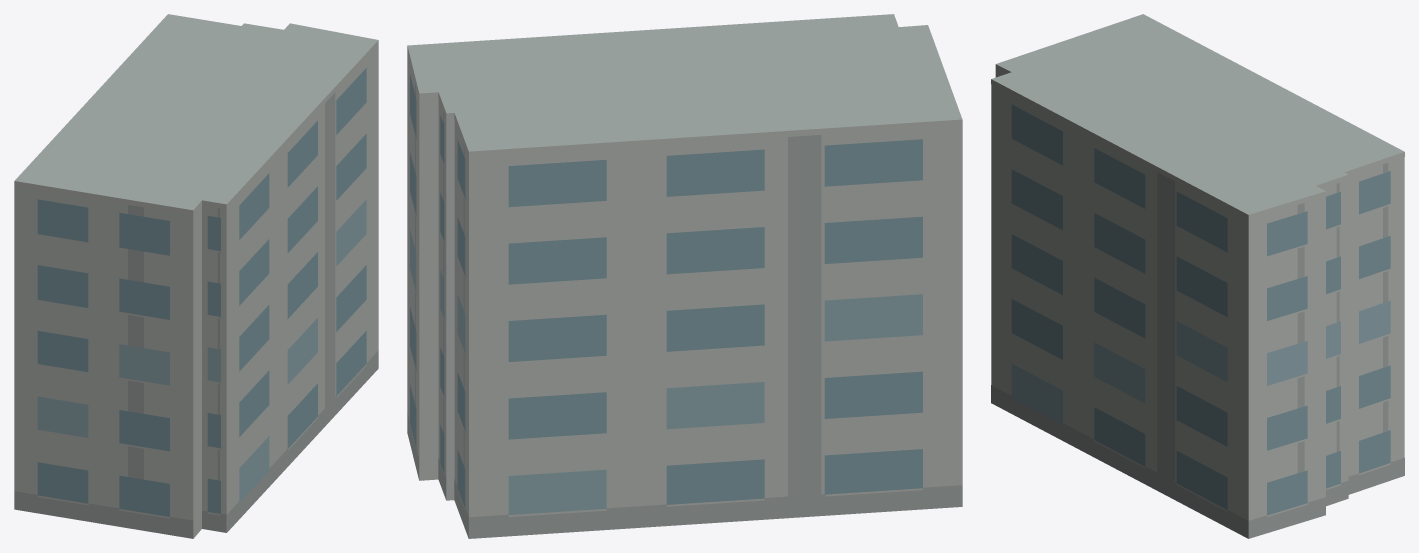
The model's file is survey-upis-32676104.glb.
3 renders of one model, left to right at view 1: azimuth 30°, elevation 25°; view 2: azimuth 150°, elevation 25°; view 3: azimuth 270°, elevation 25°, orthographic. The views are drawn at different scales.
Parts seen in each view (by area): view 1: survey-upis-32676104.tmp; view 2: survey-upis-32676104.tmp; view 3: survey-upis-32676104.tmp.
Boxes of the visible parts, x1=… form: survey-upis-32676104.tmp: x1=14, y1=14, x2=378, y2=538; survey-upis-32676104.tmp: x1=407, y1=14, x2=962, y2=538; survey-upis-32676104.tmp: x1=991, y1=14, x2=1404, y2=538.
Size of the model in its own units: 20.29 by 15.25 by 17.65.
